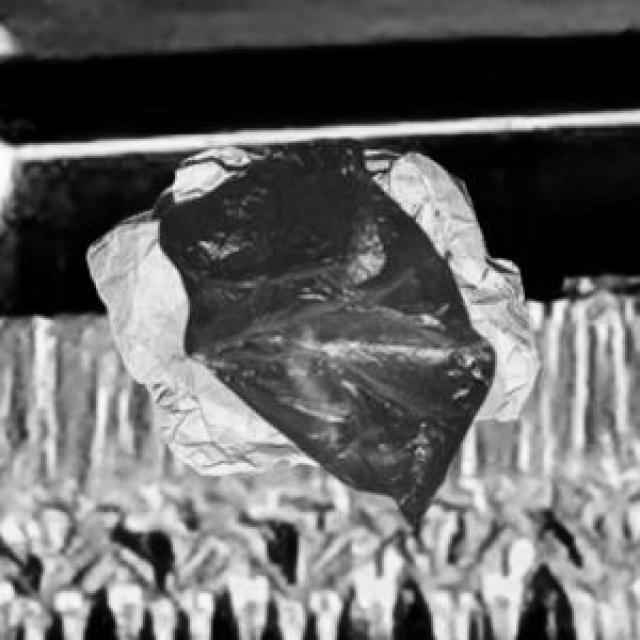paper: (83, 143, 536, 472)
